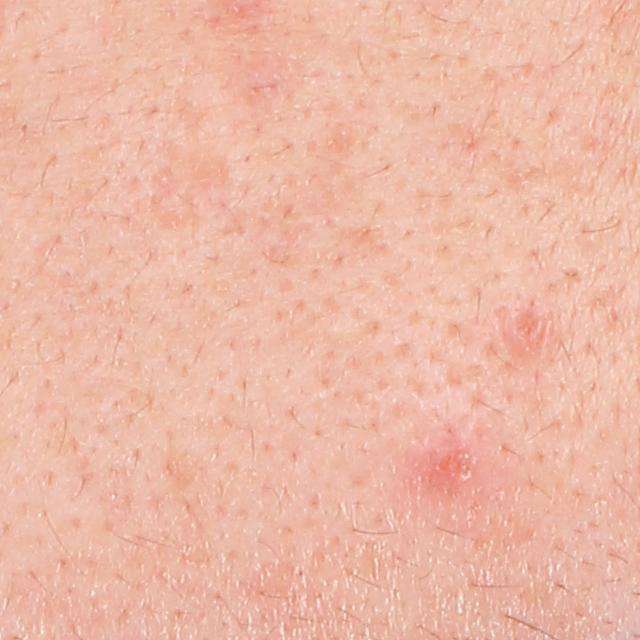papule: (501, 303, 554, 358), (429, 443, 478, 492)
